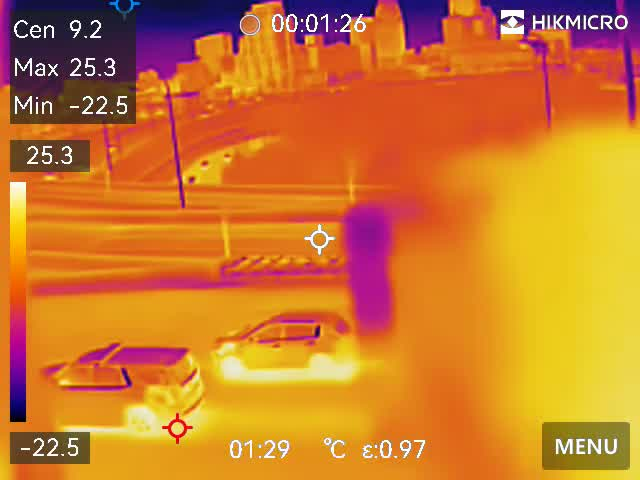largeCar: (33, 342, 213, 437), (207, 310, 360, 376)
